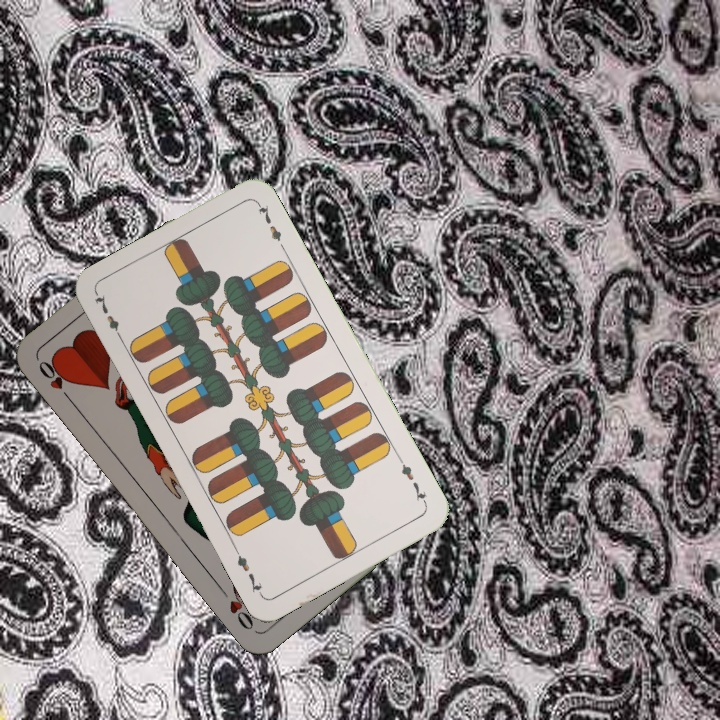E7: (394, 453, 430, 507), (91, 290, 126, 345)
HO: (34, 356, 76, 406)
